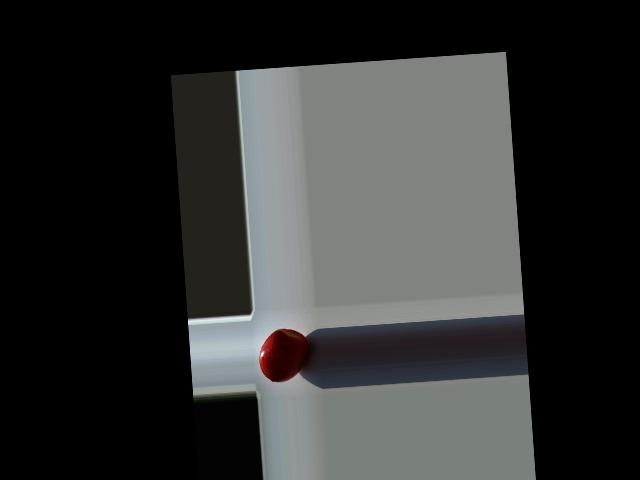tomato: (257, 327, 311, 383)
